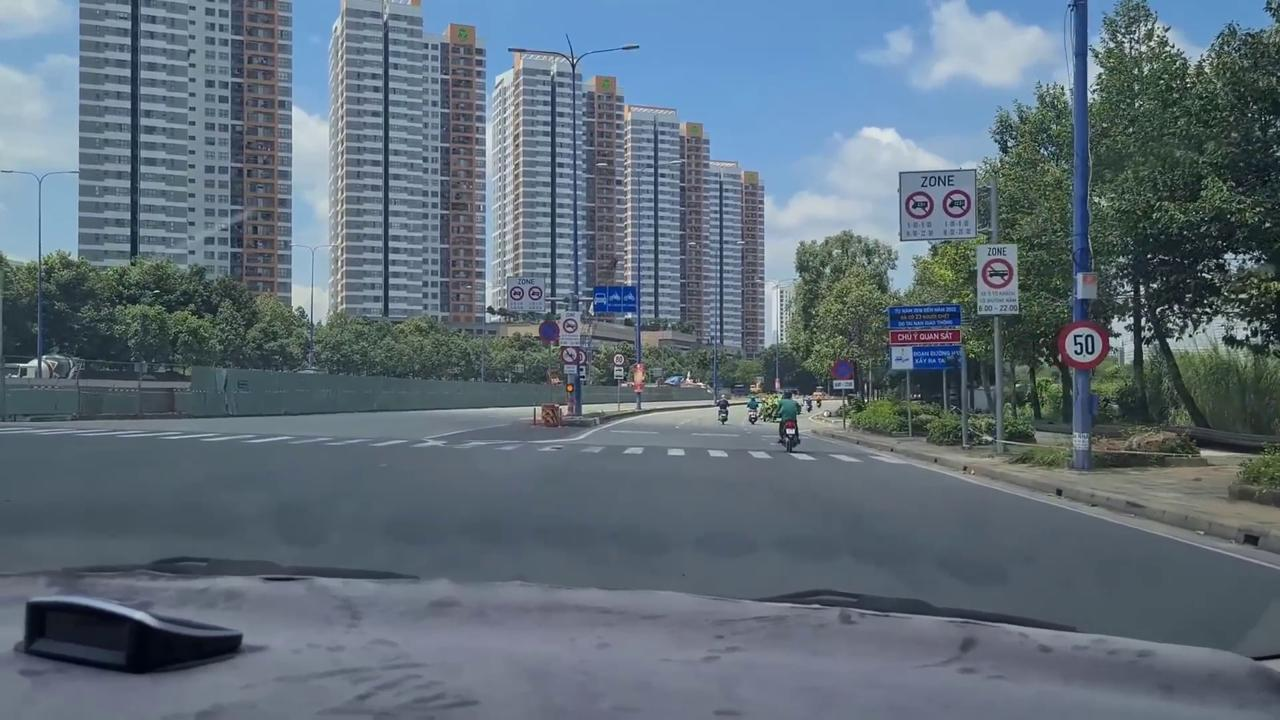Biển phụ: (613, 366, 624, 380)
Cấm cac phương tiện hoạt động trong khung giờ cố định: (898, 167, 978, 241), (974, 241, 1021, 315), (505, 275, 545, 310), (559, 311, 581, 347)
Cấm dừng - Cấm đỗ: (537, 318, 561, 344), (829, 358, 854, 380)
Cấm xe máy: (560, 344, 580, 364)
Giới hạn tốc độ 50Km/h: (1056, 318, 1111, 370)
Giới hạn tốc độ 80Km/h: (612, 352, 626, 366)
Khác: (887, 303, 964, 371)
Làn đường cho từng xe: (592, 284, 637, 314)
